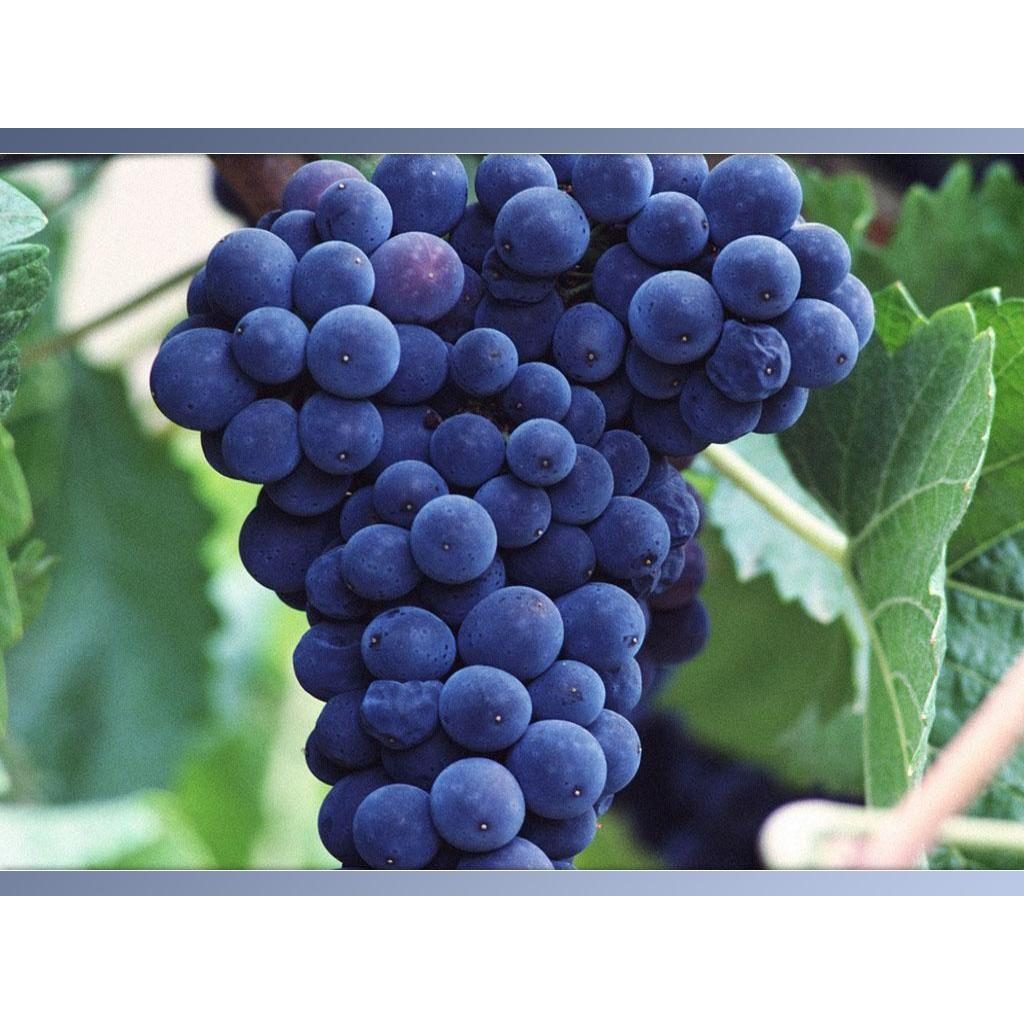grape: (150, 153, 872, 867)
